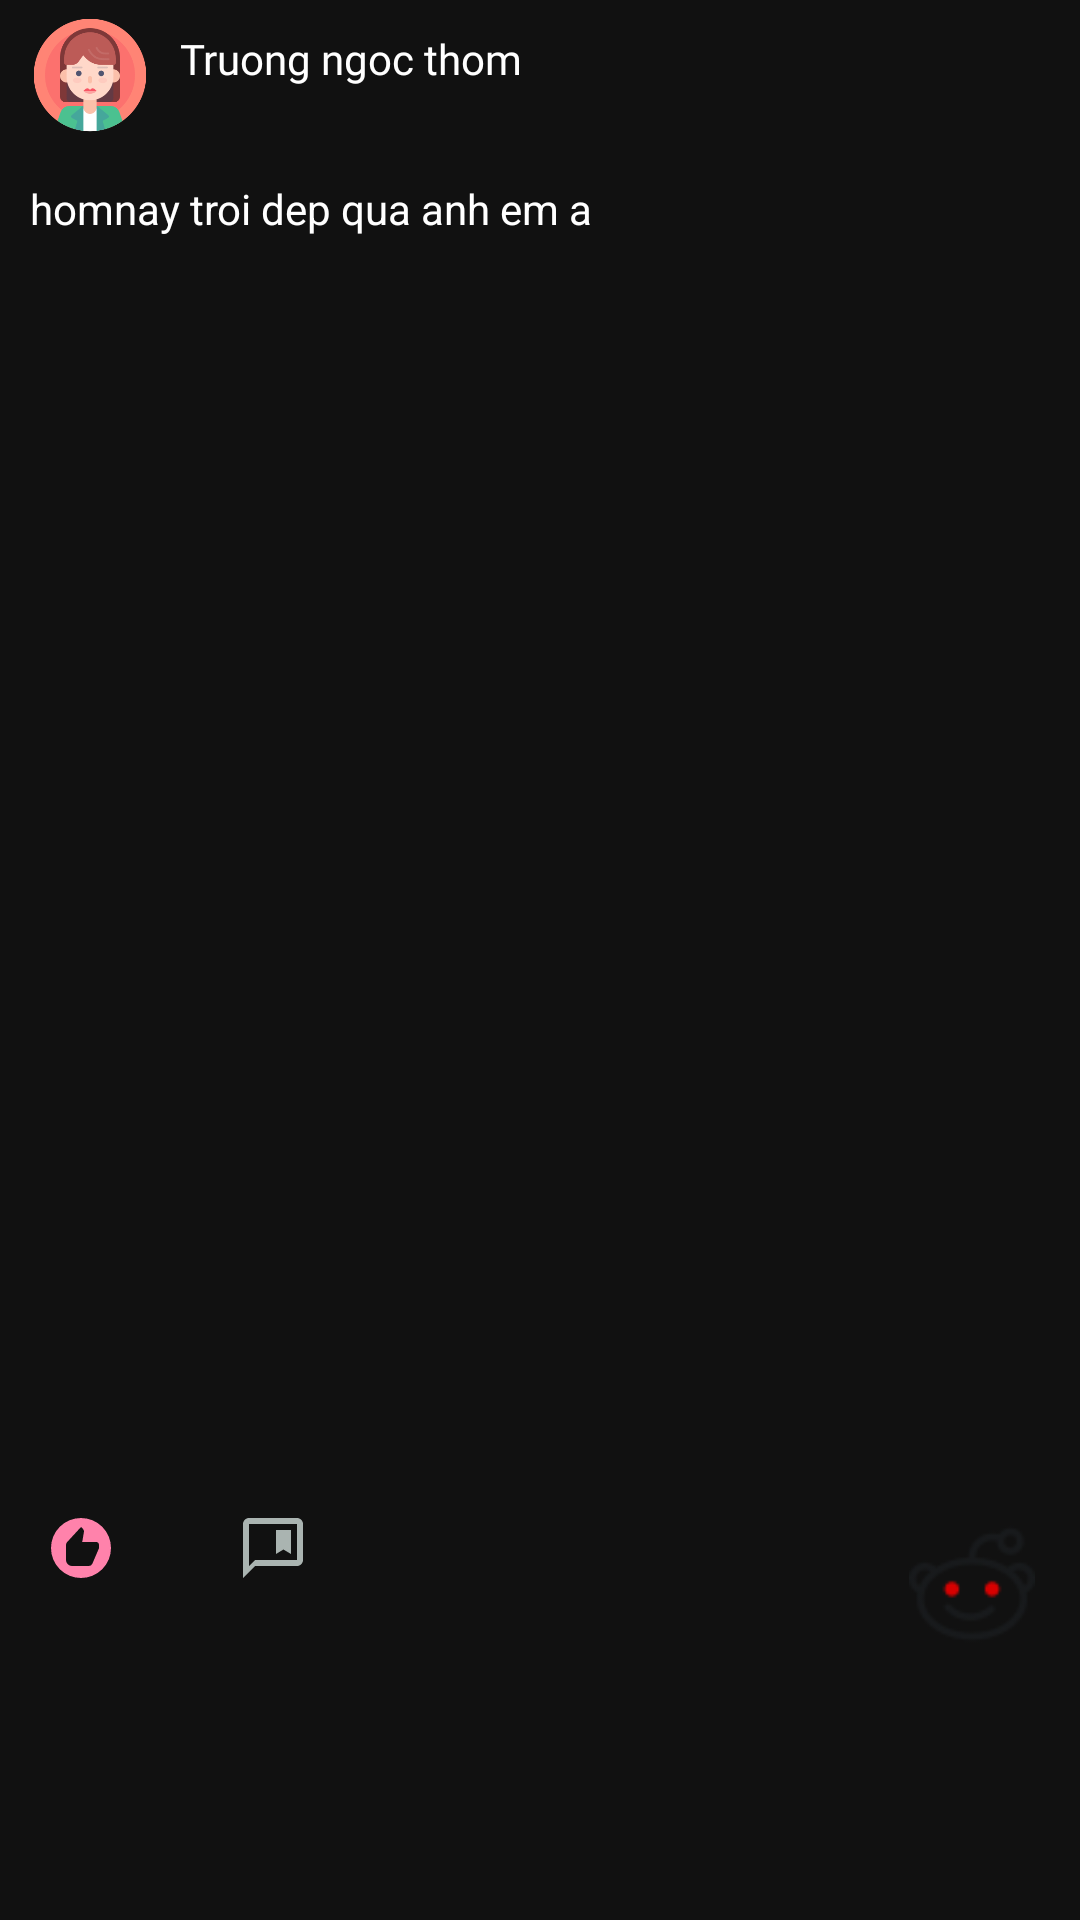

Icon click points for this 1080 × 1920 phone screenshot, format point (x, y):
comment: point (273, 1548)
portrait: point (90, 75)
recommend: point (81, 1548)
